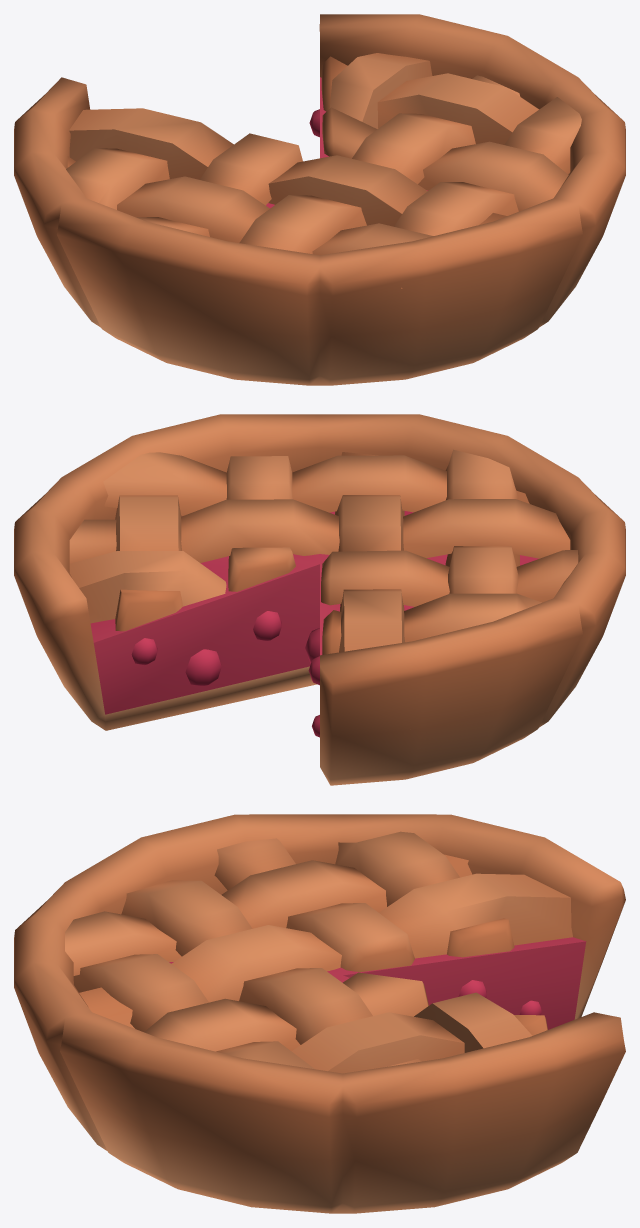
Rendered from pie.glb.
3 renders of one model, top to bottom at view 1: azimuth 30°, elevation 25°; view 2: azimuth 150°, elevation 25°; view 3: azimuth 270°, elevation 25°, orthographic. The views are drawn at different scales.
Parts seen in each view (by area): view 1: pie_cherry_cut; view 2: pie_cherry_cut; view 3: pie_cherry_cut.
Part boxes in pixels (x1,y1,x2,y2): pie_cherry_cut: [14, 14, 625, 385]; pie_cherry_cut: [14, 414, 625, 785]; pie_cherry_cut: [14, 814, 625, 1213].
Bounding box in the file's own units: 1.16 × 0.3153 × 1.06.
1 material, 1 textured.
